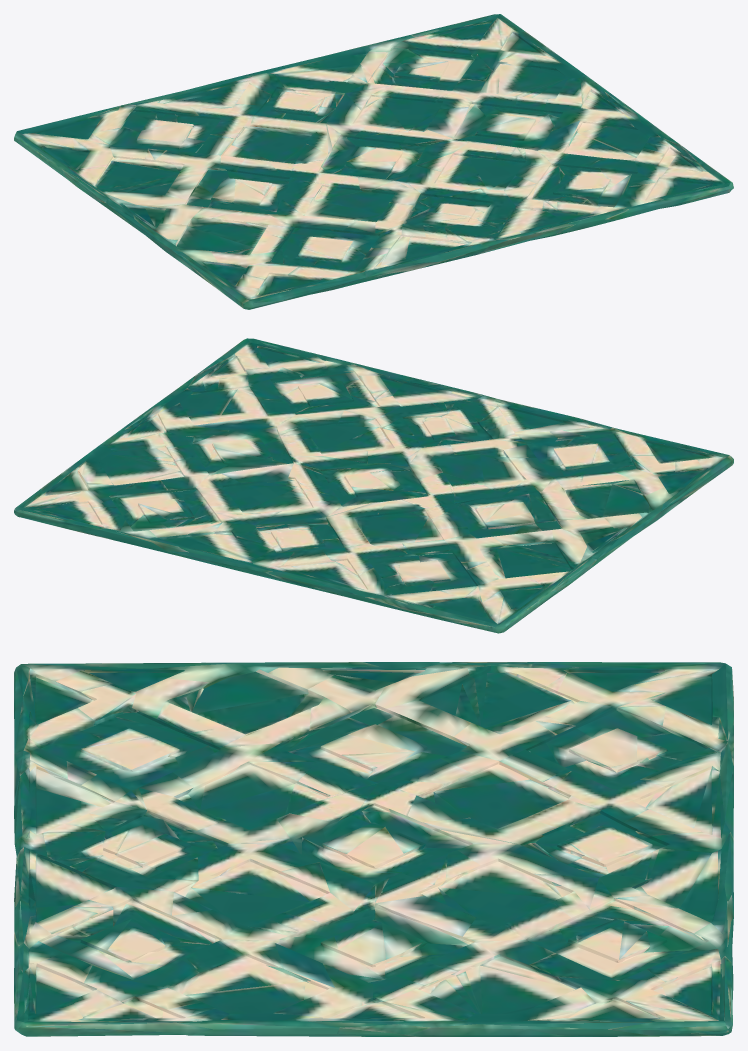
The model's file is rug.glb.
3 views of the same model, one above another, from view 1: azimuth 30°, elevation 25°; view 2: azimuth 150°, elevation 25°; view 3: azimuth 270°, elevation 25° (orthographic). The views are drawn at different scales.
Parts seen in each view (by area): view 1: Mesh_0; view 2: Mesh_0; view 3: Mesh_0.
Boxes of the visible parts, x1,y1,x2,y2 form: Mesh_0: (14, 14, 733, 309); Mesh_0: (14, 338, 733, 633); Mesh_0: (14, 662, 733, 1036).
Bounding box in the file's own units: 1.9 × 0.0346 × 1.58.
Materials: 1 (1 with a texture image).
